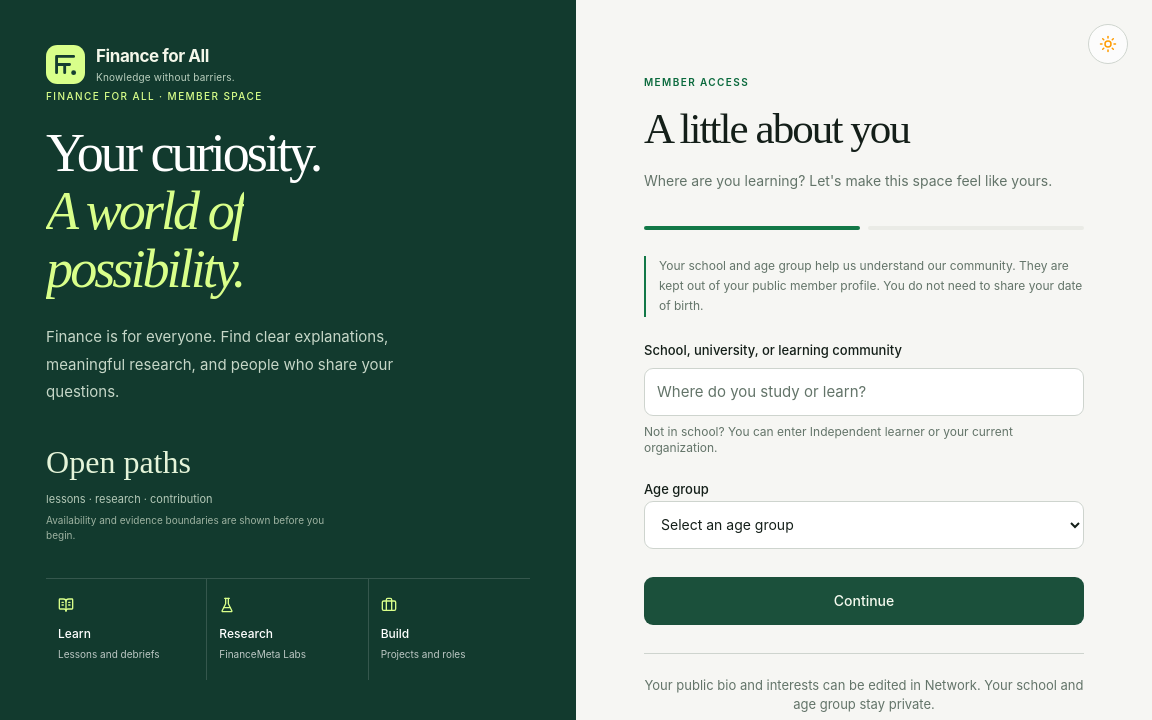
it: two-stage member onboarding › keeps the member on setup when private details are not confirmed
Type " Example School " into the field labelled "School, university, or learning community".
click(864, 392); type(" Example School ")  # box 644,368 -> 1084,416
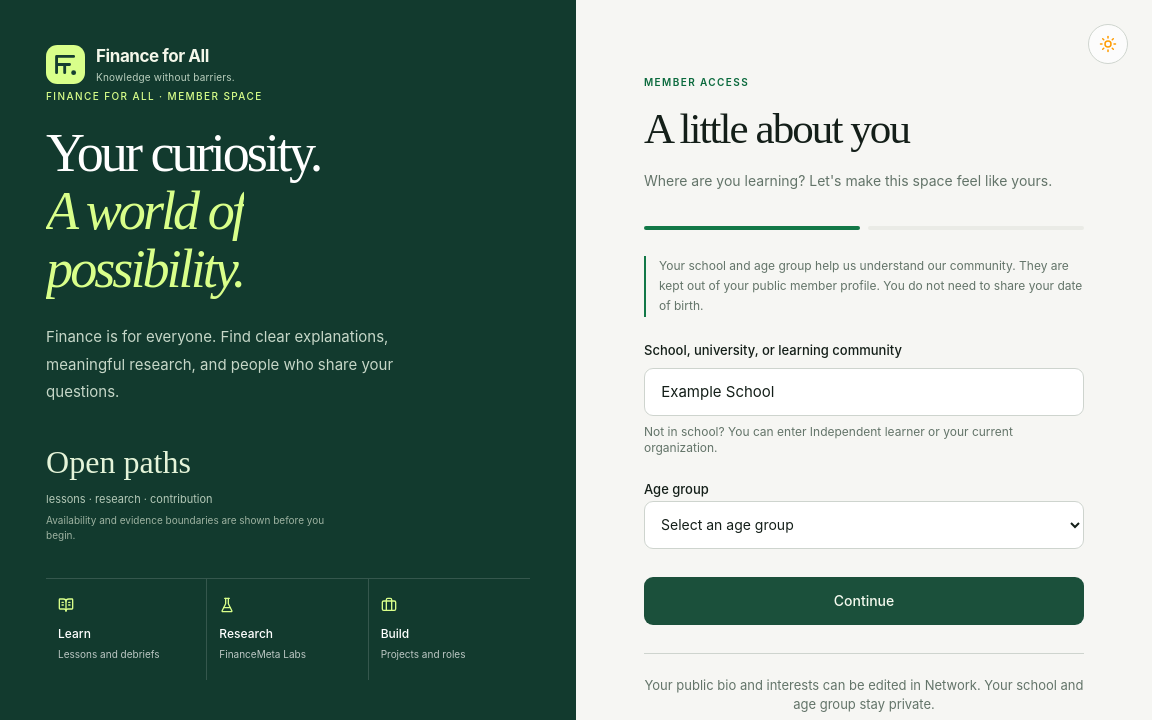
Select "Prefer not to say" in the dropdown labelled "Age group" at (864, 525), box 644,501 -> 1084,549
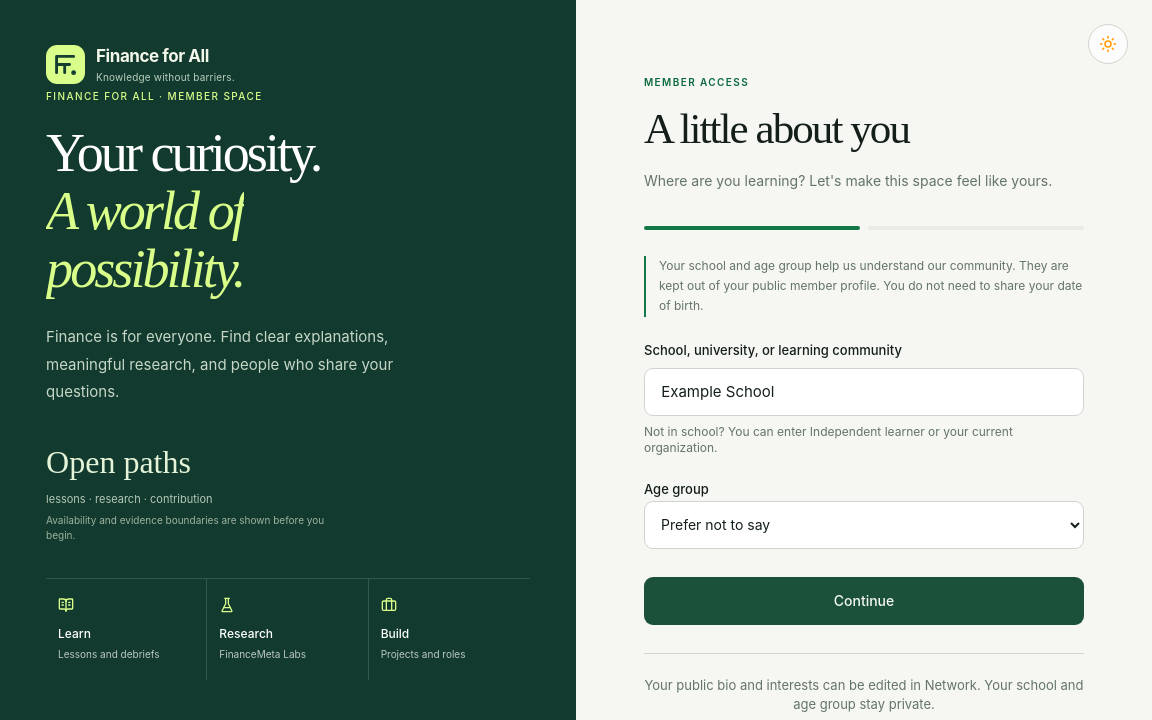
Click the button "Continue".
click(864, 601)  # box 644,577 -> 1084,625
(page scrolled)
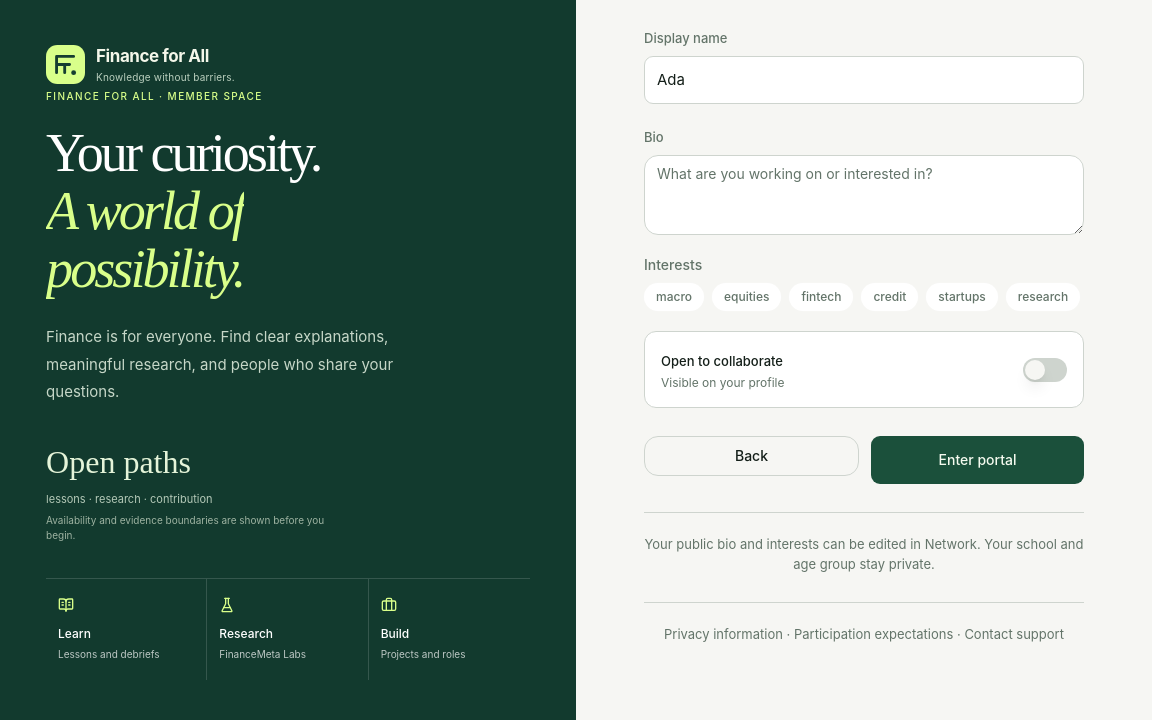
Click the button "Enter portal".
click(978, 460)  # box 871,436 -> 1084,484
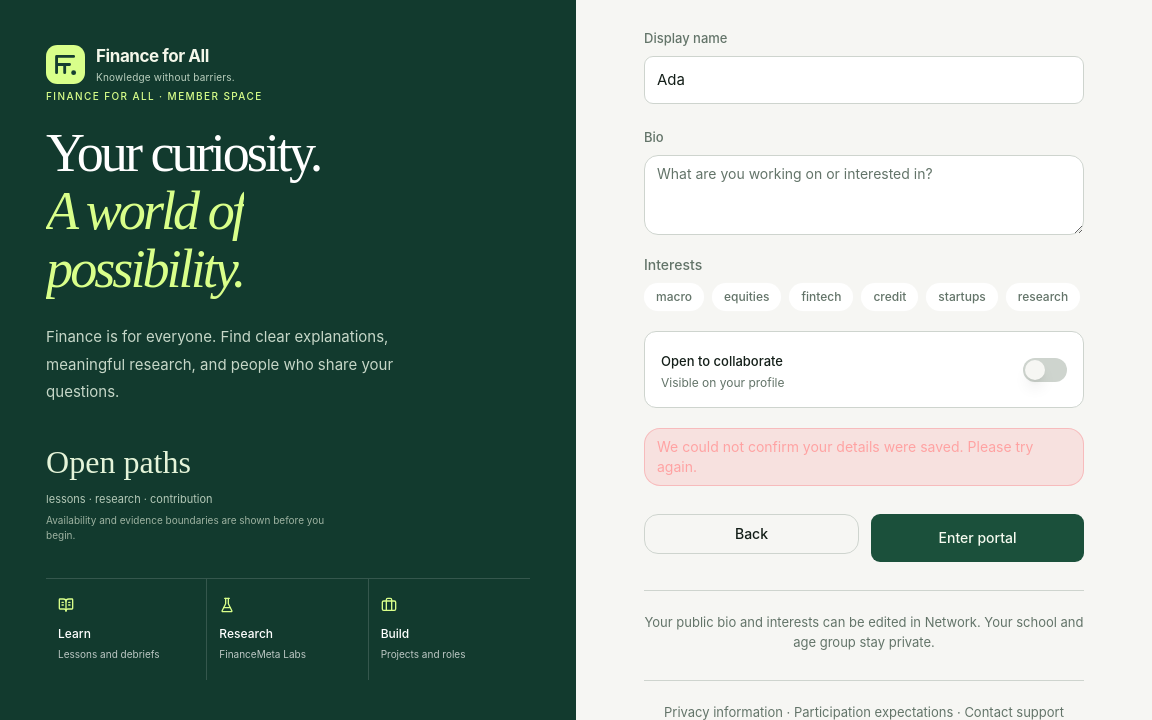
Check: the button "Enter portal" is enabled, box 871,514 -> 1084,562
Check: the message shows "could not confirm", box 657,438 -> 1034,475
